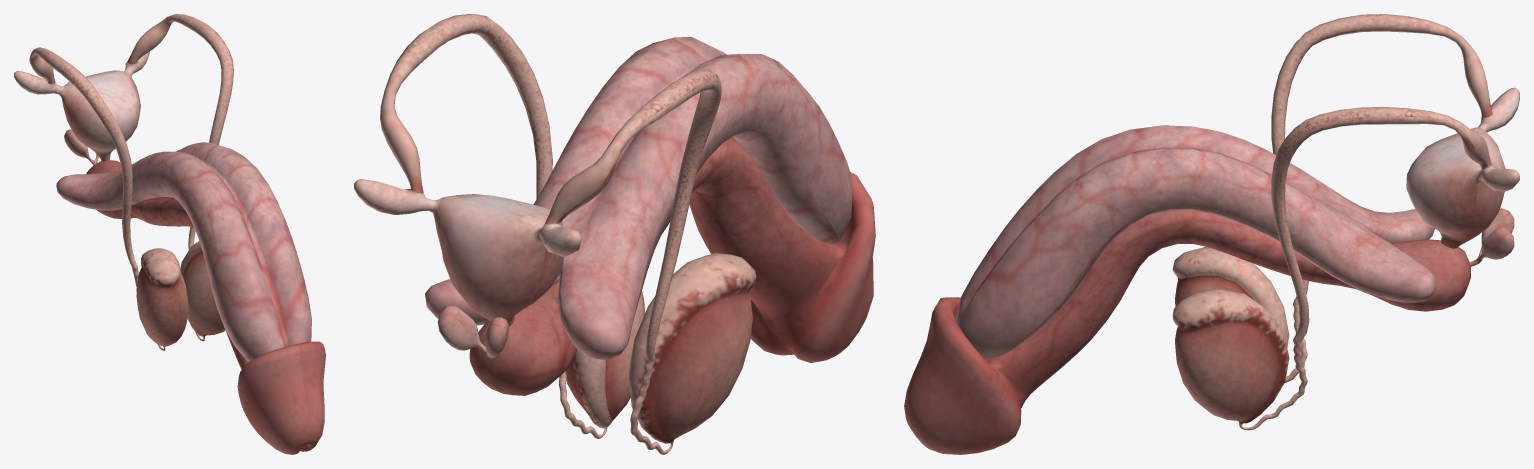
The model's file is Male_Reproductive_System.fbx.
The picture shows the model from 3 angles, left to right: view 1: azimuth 30°, elevation 25°; view 2: azimuth 150°, elevation 25°; view 3: azimuth 270°, elevation 25°; orthographic projection. The views are drawn at different scales.
Visible parts, largest first — view 1: Right_Corpora_Cavernosa, Left_Corpora_Cavernosa, Glans_Penis, Prostate_Gland, Right_Deferent_Duct, Left_Vas_Deferent_Duct, Right_Testis, Corpus_Spongiosum, Left_Testis, Right_Epididymis, Right_Root_Of_Penis_Crura, Right_Seminal_Gland (+1 smaller); view 2: Right_Corpora_Cavernosa, Corpus_Spongiosum, Prostate_Gland, Right_Deferent_Duct, Right_Testis, Left_Corpora_Cavernosa, Left_Vas_Deferent_Duct, Glans_Penis, Right_Epididymis, Right_Root_Of_Penis_Crura, Left_Testis, Left_Epididymis (+5 smaller); view 3: Left_Corpora_Cavernosa, Corpus_Spongiosum, Glans_Penis, Right_Corpora_Cavernosa, Left_Testis, Prostate_Gland, Left_Vas_Deferent_Duct, Right_Deferent_Duct, Left_Epididymis, Right_Epididymis, Left_Root_Of_Penis_Crura, Right_Testis (+4 smaller).
Boxes of the visible parts, left/top/right/bottom form: Right_Corpora_Cavernosa: left=85, top=151, right=286, bottom=361; Left_Corpora_Cavernosa: left=175, top=142, right=311, bottom=346; Glans_Penis: left=237, top=341, right=325, bottom=454; Prostate_Gland: left=61, top=70, right=140, bottom=155; Right_Deferent_Duct: left=29, top=47, right=165, bottom=350; Left_Vas_Deferent_Duct: left=126, top=14, right=233, bottom=341; Right_Testis: left=136, top=264, right=188, bottom=346; Corpus_Spongiosum: left=86, top=160, right=248, bottom=369; Left_Testis: left=183, top=251, right=225, bottom=336; Right_Epididymis: left=141, top=248, right=180, bottom=347; Right_Root_Of_Penis_Crura: left=56, top=173, right=98, bottom=208; Right_Seminal_Gland: left=14, top=71, right=64, bottom=96; Right_Corpora_Cavernosa: left=557, top=54, right=852, bottom=325; Corpus_Spongiosum: left=469, top=137, right=855, bottom=395; Prostate_Gland: left=433, top=194, right=564, bottom=321; Right_Deferent_Duct: left=542, top=69, right=721, bottom=454; Right_Testis: left=653, top=291, right=752, bottom=438; Left_Corpora_Cavernosa: left=533, top=36, right=725, bottom=282; Left_Vas_Deferent_Duct: left=380, top=14, right=607, bottom=438; Glans_Penis: left=750, top=172, right=875, bottom=362; Right_Epididymis: left=628, top=253, right=756, bottom=443; Right_Root_Of_Penis_Crura: left=561, top=300, right=633, bottom=359; Left_Testis: left=566, top=291, right=644, bottom=419; Left_Epididymis: left=572, top=349, right=612, bottom=428; Left_Corpora_Cavernosa: left=958, top=147, right=1408, bottom=360; Corpus_Spongiosum: left=952, top=211, right=1470, bottom=408; Glans_Penis: left=904, top=297, right=1021, bottom=454; Right_Corpora_Cavernosa: left=956, top=125, right=1410, bottom=324; Left_Testis: left=1175, top=320, right=1279, bottom=422; Prostate_Gland: left=1406, top=127, right=1505, bottom=243; Left_Vas_Deferent_Duct: left=1239, top=107, right=1493, bottom=430; Right_Deferent_Duct: left=1271, top=14, right=1493, bottom=383; Left_Epididymis: left=1172, top=289, right=1289, bottom=424; Right_Epididymis: left=1172, top=247, right=1289, bottom=347; Left_Root_Of_Penis_Crura: left=1376, top=254, right=1435, bottom=302; Right_Testis: left=1175, top=275, right=1253, bottom=306.
Bounding box in the file's own units: 8.53 × 15.19 × 21.9.
1 material, 1 textured.
